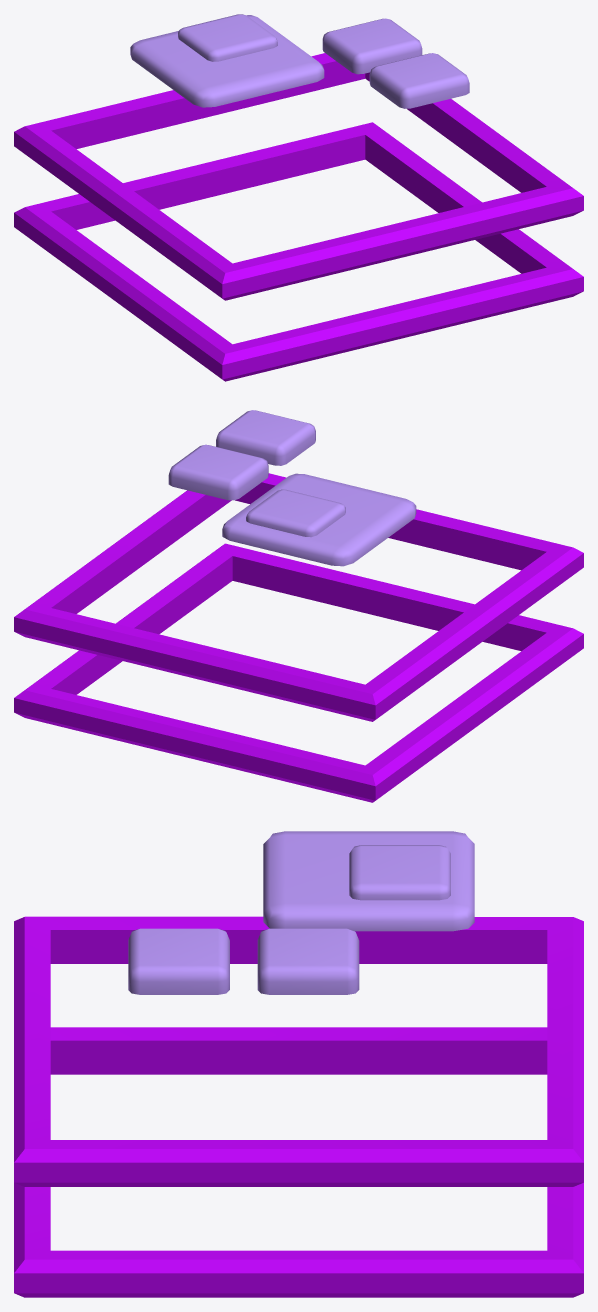
The model's file is wall_deco8.fbx.
3 renders of one model, top to bottom at view 1: azimuth 30°, elevation 25°; view 2: azimuth 150°, elevation 25°; view 3: azimuth 270°, elevation 25°, orthographic. The views are drawn at different scales.
Visible parts, largest first — view 1: wall_deco8; view 2: wall_deco8; view 3: wall_deco8.
Part boxes in pixels (left/top/right/bottom): wall_deco8: left=14, top=14, right=583, bottom=381; wall_deco8: left=14, top=410, right=583, bottom=802; wall_deco8: left=14, top=831, right=583, bottom=1297.
Size of the model in its own units: 345 by 196 by 344.
